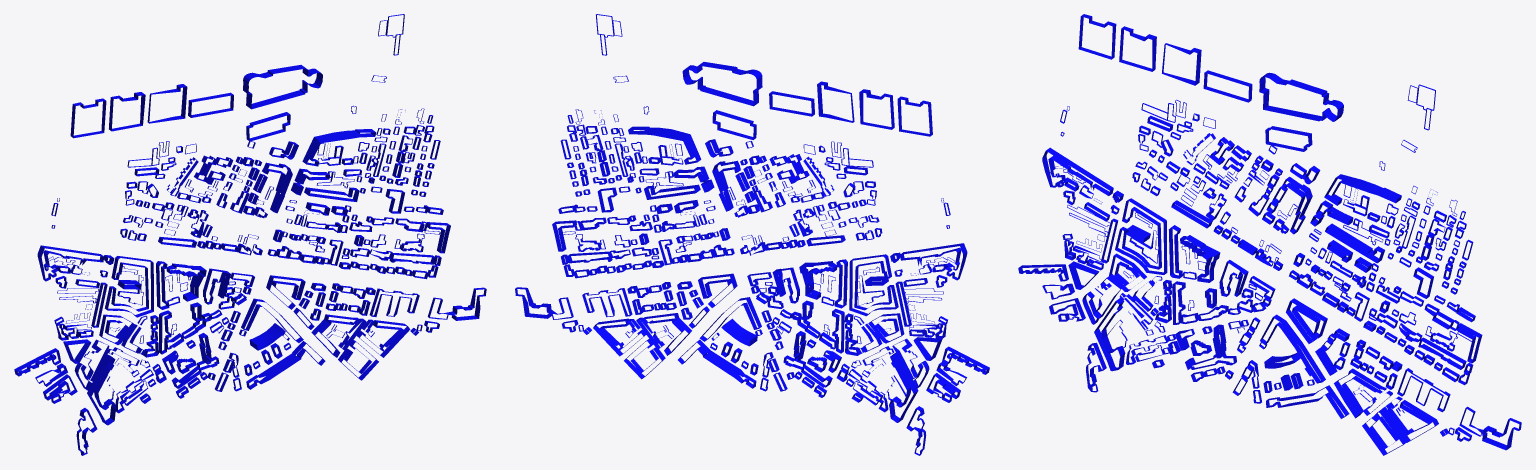
The model's file is BDTopoMurs.obj.
The picture shows the model from 3 angles, left to right: view 1: azimuth 30°, elevation 25°; view 2: azimuth 150°, elevation 25°; view 3: azimuth 330°, elevation 25°; orthographic projection. The views are drawn at different scales.
Parts seen in each view (by area): view 1: 344, 235, 39, 126, 263, 226, 89, 151, 270, 2, 336, 216 (+4 smaller); view 2: 344, 235, 39, 126, 263, 226, 89, 151, 270, 2, 336, 184 (+4 smaller); view 3: 344, 235, 226, 222, 216, 39, 2, 160, 151, 263, 134, 126 (+6 smaller).
Boxes of the visible parts, <box> form: 344: <box>243,65,322,109</box>; 235: <box>104,256,153,317</box>; 39: <box>302,129,376,166</box>; 126: <box>246,341,325,389</box>; 263: <box>87,354,116,425</box>; 226: <box>37,245,104,281</box>; 89: <box>427,287,486,320</box>; 151: <box>166,263,206,301</box>; 270: <box>262,162,292,213</box>; 2: <box>356,320,410,357</box>; 336: <box>369,288,419,316</box>; 216: <box>266,275,305,309</box>; 344: <box>682,62,762,106</box>; 235: <box>849,254,898,316</box>; 39: <box>628,126,701,164</box>; 126: <box>678,339,756,388</box>; 263: <box>889,353,918,422</box>; 226: <box>900,243,967,280</box>; 89: <box>515,287,573,319</box>; 151: <box>799,261,837,299</box>; 270: <box>712,160,740,211</box>; 2: <box>593,318,646,356</box>; 336: <box>582,288,632,317</box>; 184: <box>859,89,894,129</box>; 344: <box>1259,72,1343,121</box>; 235: <box>1115,198,1167,274</box>; 226: <box>1042,147,1113,195</box>; 222: <box>1260,314,1325,383</box>; 216: <box>1286,298,1327,343</box>; 39: <box>1324,174,1401,205</box>; 2: <box>1381,400,1438,442</box>; 160: <box>1334,368,1386,418</box>; 151: <box>1180,235,1220,282</box>; 263: <box>1094,298,1125,371</box>; 134: <box>1325,223,1384,263</box>; 126: <box>1266,385,1349,418</box>.
Size of the model in its own units: 1073 by 792 by 30.2.
